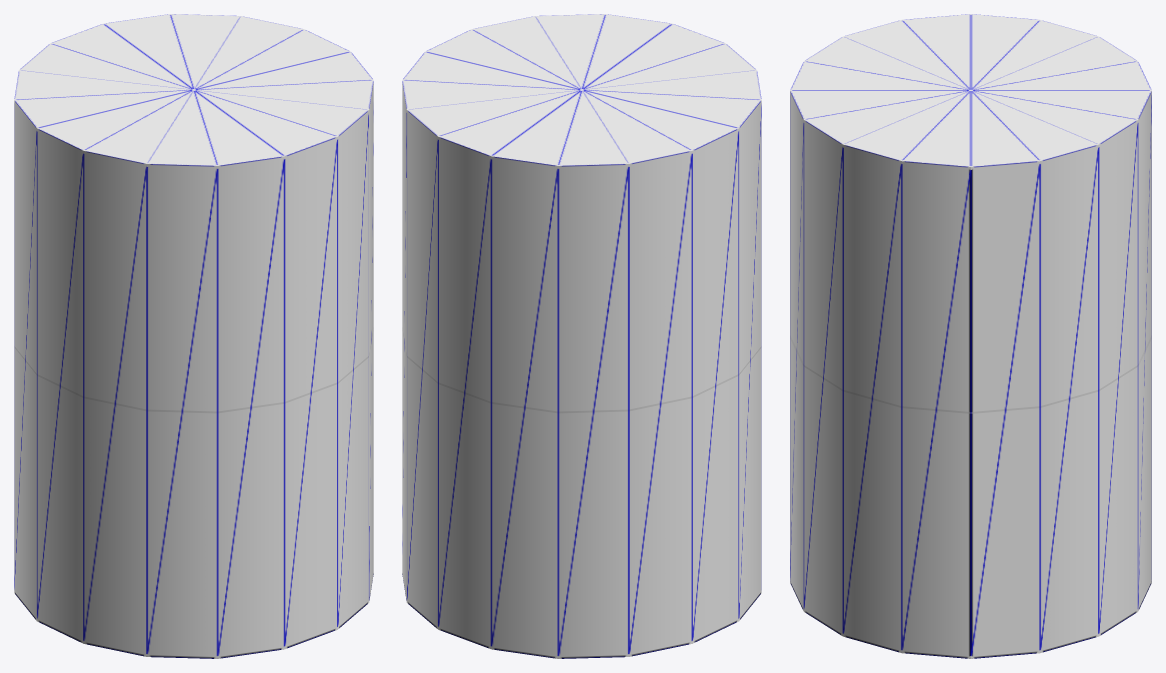
Rendered from TestOilBarrel.obj.
The picture shows the model from 3 angles, left to right: view 1: azimuth 30°, elevation 25°; view 2: azimuth 150°, elevation 25°; view 3: azimuth 270°, elevation 25°; orthographic projection.
Parts seen in each view (by area): view 1: TestOilBarrel; view 2: TestOilBarrel; view 3: TestOilBarrel.
Boxes of the visible parts, x1,y1,x2,y2 form: TestOilBarrel: (14,14,373,658); TestOilBarrel: (402,14,761,658); TestOilBarrel: (790,14,1151,658).
Size of the model in its own units: 2 by 3 by 2.
Materials: 1 (1 with a texture image).
